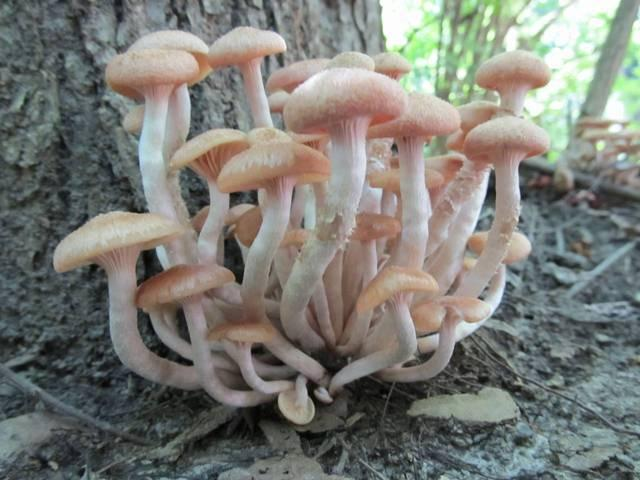edible_mushroom: (52, 25, 552, 424)
